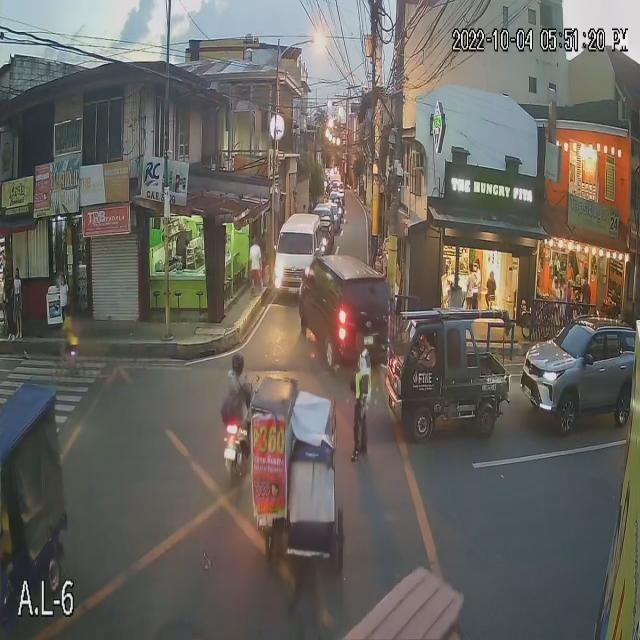helmet: (228, 347, 249, 385)
motorcycle: (212, 409, 255, 484)
rider: (226, 371, 252, 425)
